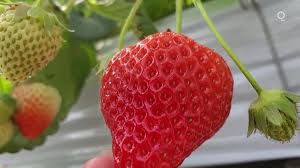ripe: (98, 36, 238, 163)
unripe: (3, 9, 68, 86), (11, 84, 70, 142), (251, 89, 300, 143)
